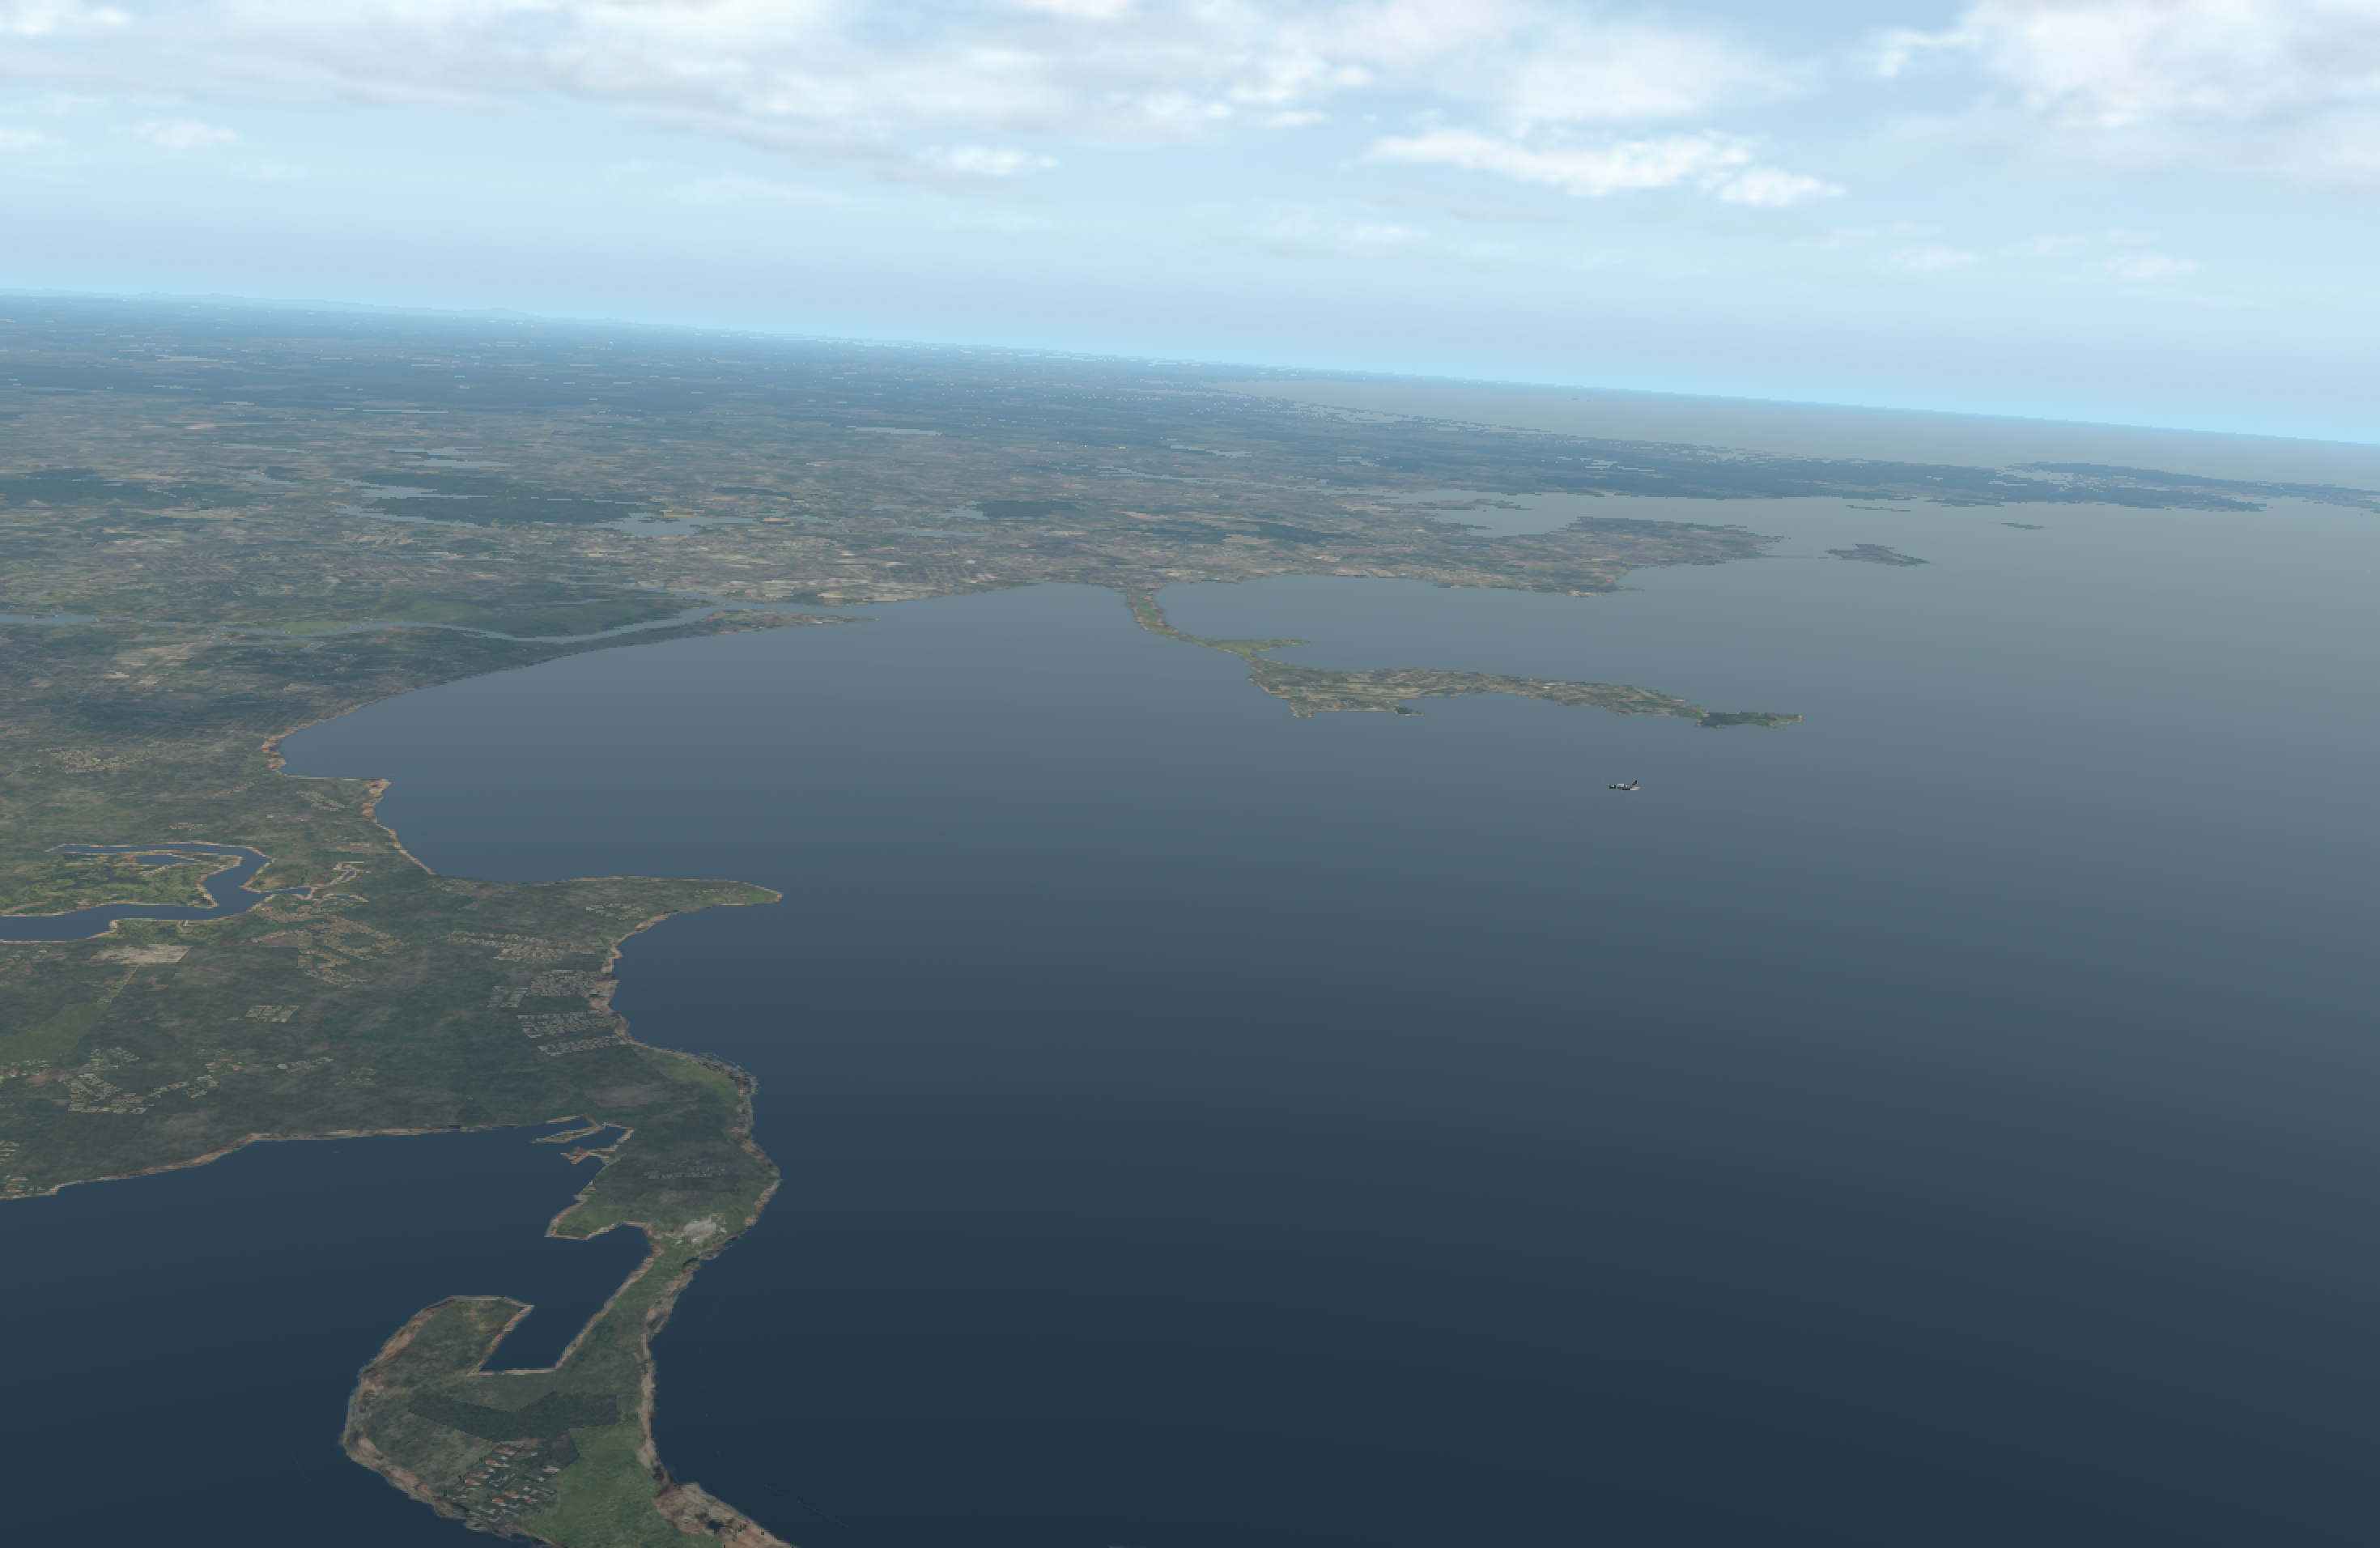aircraft: (1596, 779, 1643, 798)
